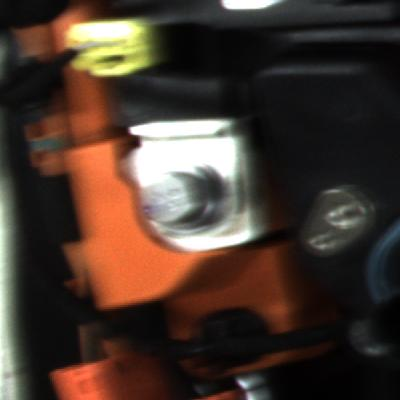nut_b: (130, 159, 229, 240)
